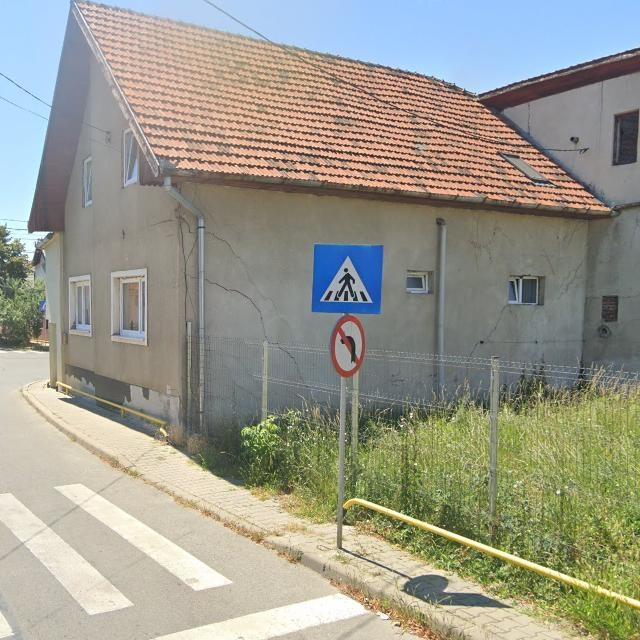info_crosswalk: (312, 244, 383, 314)
